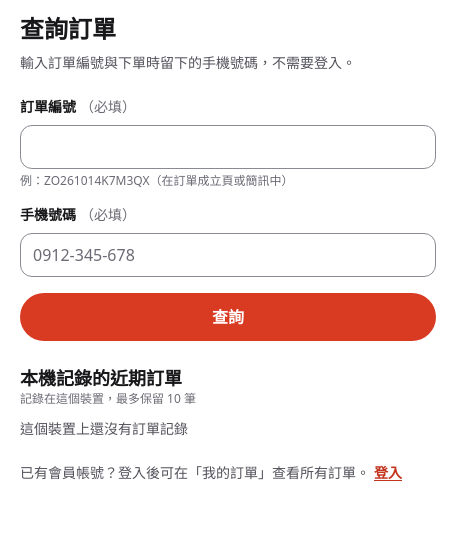
OrderLookupPage › 欄位驗證：訂單編號必填、手機格式（VR-01）；不呼叫 API
In the field labelled "手機號碼（必填）": (228, 255) [20,233,436,277], type "123"
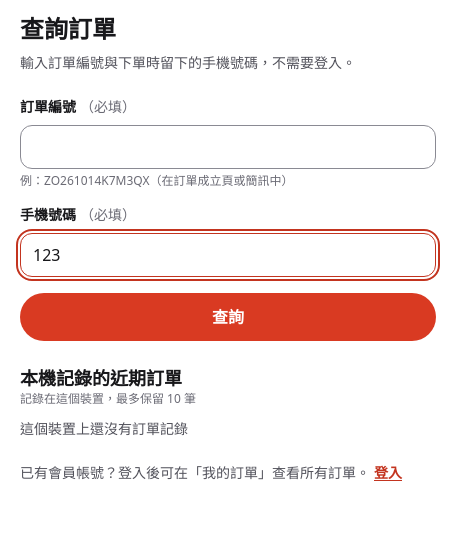
Click the button "查詢": (228, 317) [20,293,436,341]
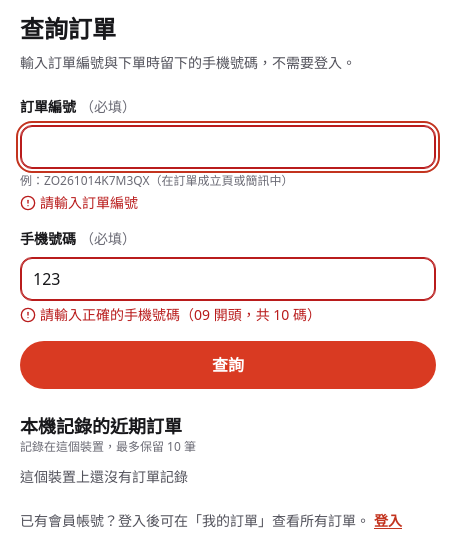
Now the text "請輸入訂單編號" is shown, box [40,193,138,213]
Now the text "請輸入正確的手機號碼（09 開頭，共 10 碼）" is shown, box [40,305,321,325]
